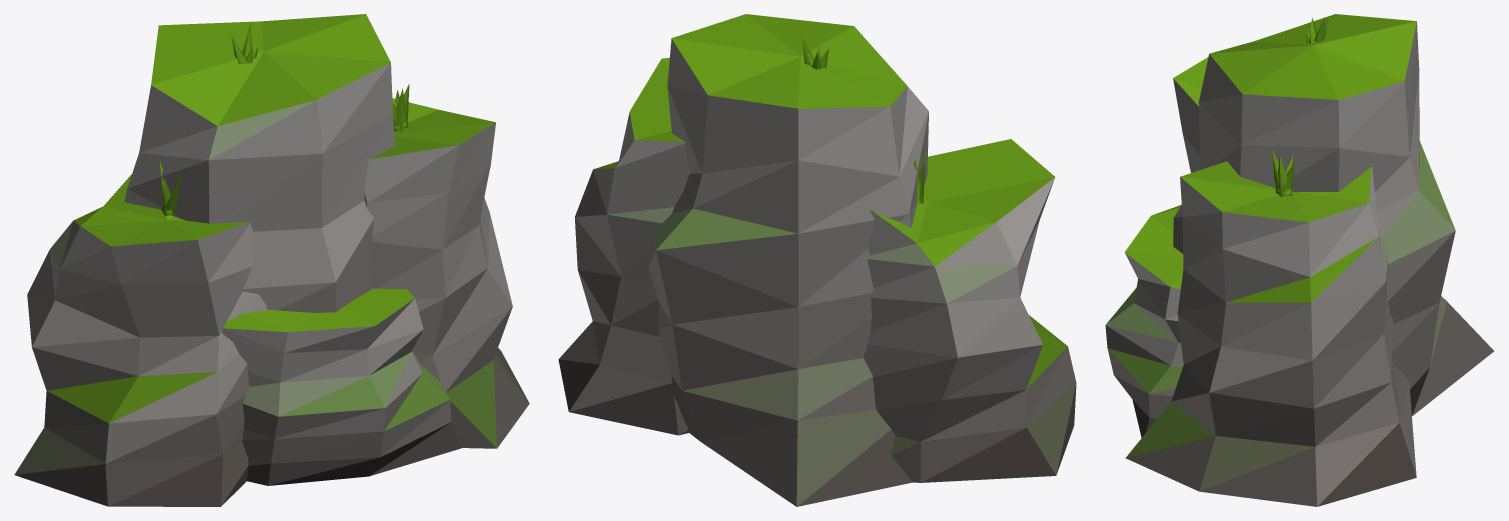
Rendered from batu_cliff_limestone_696281.glb.
3 renders of one model, left to right at view 1: azimuth 30°, elevation 25°; view 2: azimuth 150°, elevation 25°; view 3: azimuth 270°, elevation 25°, orthographic. The views are drawn at different scales.
Parts seen in each view (by area): view 1: Tebing_Sungai_Curam; view 2: Tebing_Sungai_Curam; view 3: Tebing_Sungai_Curam.
Boxes of the visible parts, x1=… form: Tebing_Sungai_Curam: x1=14, y1=14, x2=529, y2=506; Tebing_Sungai_Curam: x1=558, y1=14, x2=1076, y2=506; Tebing_Sungai_Curam: x1=1105, y1=14, x2=1494, y2=506.
Size of the model in its own units: 7.63 by 5.84 by 5.39.
